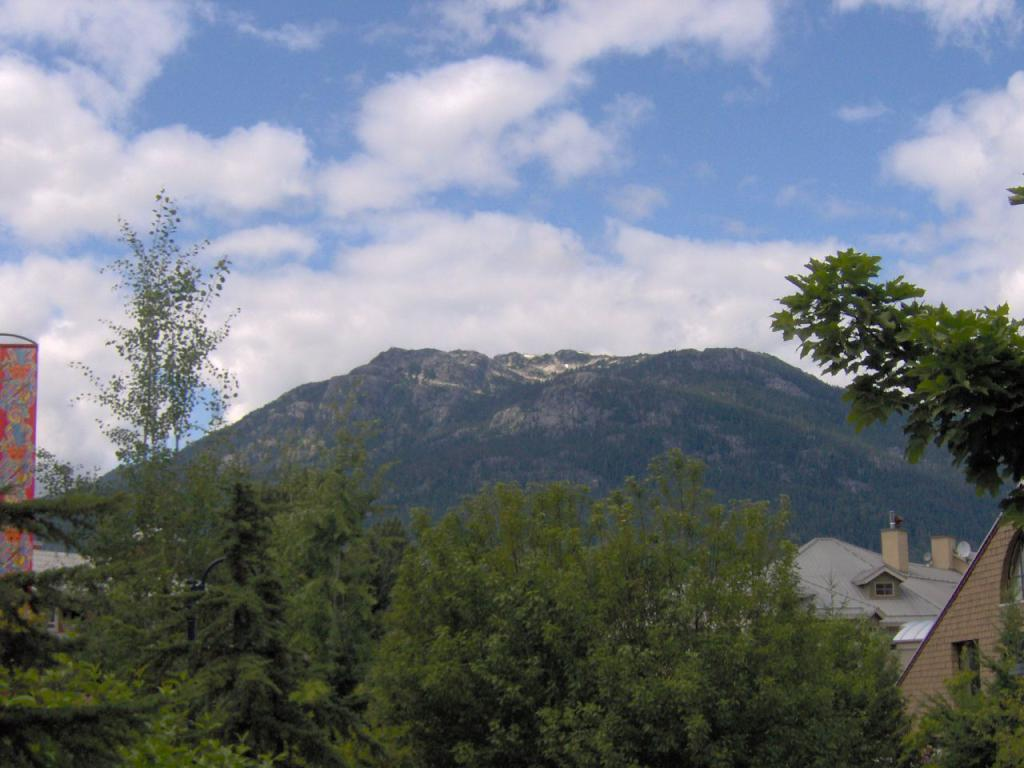Tree: (0, 438, 1023, 767), (768, 183, 1023, 533), (34, 186, 245, 509)
